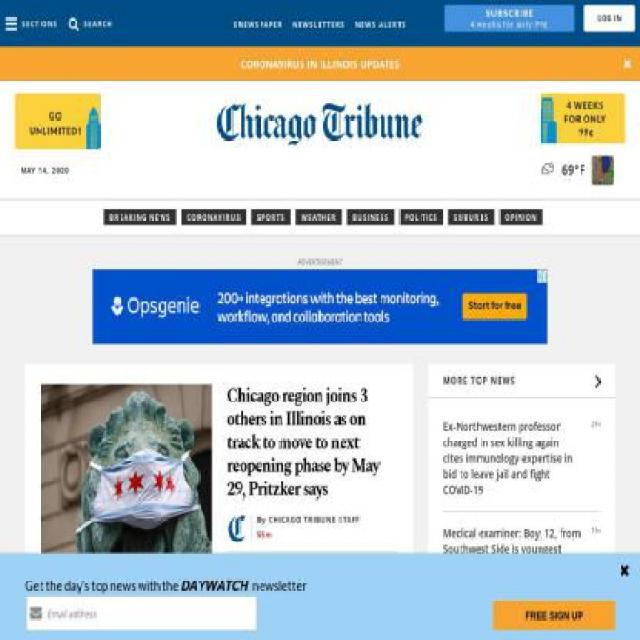button: (217, 100, 423, 149), (443, 365, 609, 397), (238, 563, 399, 594), (238, 594, 399, 624), (15, 99, 100, 150), (540, 92, 625, 143), (493, 600, 616, 631), (444, 5, 574, 32), (535, 153, 619, 189), (4, 7, 58, 39), (69, 7, 113, 39), (583, 5, 635, 32), (104, 208, 176, 226), (182, 208, 246, 226), (347, 208, 395, 226), (296, 208, 342, 226), (448, 208, 494, 226), (615, 47, 639, 81), (399, 208, 444, 226), (500, 208, 542, 226), (251, 208, 291, 226), (618, 562, 631, 578)
field: (26, 595, 257, 631)
